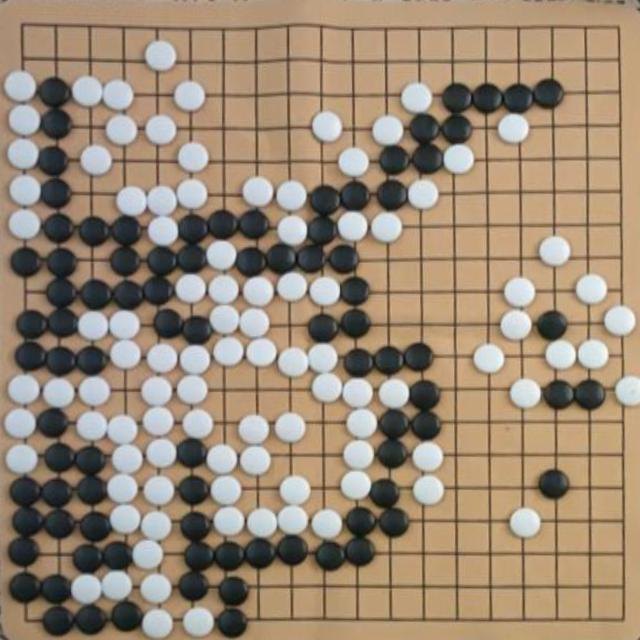blackstone: (38, 76, 72, 108), (36, 407, 69, 439), (110, 601, 143, 633), (74, 604, 108, 635), (41, 108, 73, 140), (9, 476, 41, 508), (37, 146, 70, 177), (74, 445, 107, 476), (79, 512, 112, 543), (80, 279, 112, 310), (40, 178, 72, 209), (44, 442, 76, 473), (276, 535, 308, 566), (574, 379, 606, 410), (43, 509, 75, 540), (178, 571, 210, 602), (11, 506, 43, 537), (7, 537, 39, 568), (8, 572, 40, 603), (75, 475, 108, 505), (409, 379, 440, 410), (46, 247, 77, 278), (412, 144, 444, 174), (410, 411, 442, 441), (309, 185, 341, 215), (378, 409, 410, 439), (112, 280, 144, 310), (47, 307, 79, 337), (46, 278, 78, 308), (45, 346, 77, 376), (179, 511, 211, 541), (43, 213, 75, 243), (543, 380, 575, 410), (441, 83, 473, 113), (214, 541, 246, 571), (218, 576, 250, 606), (40, 574, 72, 604), (538, 469, 570, 499), (340, 308, 371, 338), (339, 276, 370, 306), (153, 308, 184, 338), (403, 342, 434, 372), (178, 214, 209, 244), (147, 246, 178, 276), (238, 208, 269, 238), (176, 438, 207, 468), (207, 209, 238, 239), (110, 216, 141, 246), (15, 341, 46, 371), (41, 478, 72, 508), (184, 541, 215, 571), (245, 539, 276, 569), (101, 541, 132, 571), (72, 544, 103, 574), (43, 606, 74, 636), (177, 476, 209, 505), (376, 439, 408, 468), (536, 311, 568, 340), (216, 608, 248, 637), (308, 314, 338, 344), (236, 247, 266, 277), (328, 244, 358, 274), (377, 180, 407, 210), (340, 181, 370, 211), (110, 246, 140, 276), (296, 244, 326, 274), (143, 276, 173, 306), (78, 216, 108, 246), (10, 247, 40, 277), (473, 83, 503, 113), (504, 83, 534, 113), (534, 78, 564, 108), (177, 244, 208, 273), (16, 310, 47, 339), (182, 316, 212, 345), (266, 244, 296, 273), (76, 346, 106, 375), (379, 508, 409, 537), (343, 348, 374, 376), (409, 114, 440, 142), (369, 480, 400, 508), (345, 508, 376, 536), (374, 346, 404, 374), (379, 146, 409, 174), (442, 114, 472, 142), (345, 538, 375, 566), (315, 542, 345, 570), (308, 216, 337, 244)
whitestone: (8, 175, 42, 208), (8, 209, 41, 242), (7, 139, 40, 172), (7, 374, 40, 407), (78, 376, 112, 408), (106, 473, 140, 505), (131, 539, 165, 571), (138, 573, 172, 605), (504, 276, 537, 308), (80, 144, 113, 176), (176, 178, 209, 210), (4, 408, 37, 440), (8, 104, 41, 136), (5, 70, 38, 102), (106, 414, 139, 446), (183, 606, 216, 638), (141, 608, 174, 640), (412, 475, 446, 506), (142, 475, 176, 506), (400, 82, 432, 114), (106, 114, 138, 146), (174, 80, 206, 112), (311, 508, 343, 540), (6, 443, 38, 475), (243, 276, 275, 308), (103, 79, 135, 111), (43, 378, 75, 410), (140, 510, 172, 542), (509, 378, 542, 409), (279, 475, 312, 506), (206, 444, 239, 475), (212, 506, 245, 537), (210, 475, 243, 506), (142, 406, 175, 437), (76, 410, 109, 441), (182, 409, 215, 440), (111, 442, 144, 473), (70, 574, 103, 605), (101, 570, 134, 601), (500, 310, 532, 341), (538, 236, 570, 267), (498, 113, 530, 144), (412, 441, 444, 472), (378, 378, 410, 409), (346, 408, 378, 439), (276, 180, 308, 211), (242, 176, 274, 207), (72, 75, 103, 107), (342, 378, 374, 409), (240, 445, 272, 476), (110, 338, 142, 369), (238, 414, 270, 445), (239, 308, 271, 339), (208, 274, 240, 305), (177, 375, 209, 406), (77, 310, 109, 341), (180, 344, 212, 375), (141, 376, 173, 407), (603, 306, 636, 336), (339, 470, 372, 500), (509, 508, 542, 538), (144, 40, 177, 70), (145, 438, 178, 468), (178, 142, 209, 173), (275, 412, 306, 443), (337, 211, 368, 242), (277, 215, 308, 246), (116, 185, 147, 216), (147, 185, 178, 216), (473, 344, 505, 374), (545, 340, 577, 370), (443, 144, 475, 174), (576, 274, 608, 304), (577, 340, 609, 370), (338, 147, 370, 177), (372, 116, 404, 146), (309, 276, 341, 306), (145, 115, 177, 145), (343, 440, 375, 470), (148, 216, 180, 246), (246, 338, 278, 368), (206, 240, 238, 270), (109, 310, 141, 340), (213, 336, 245, 366), (247, 508, 279, 538), (277, 504, 309, 534), (210, 304, 242, 334), (110, 504, 142, 534), (371, 212, 402, 242), (408, 178, 439, 208), (278, 348, 309, 378), (312, 372, 342, 403), (277, 272, 308, 302), (176, 273, 207, 303), (147, 343, 178, 373), (312, 111, 342, 141), (308, 343, 338, 373), (614, 376, 640, 406)
